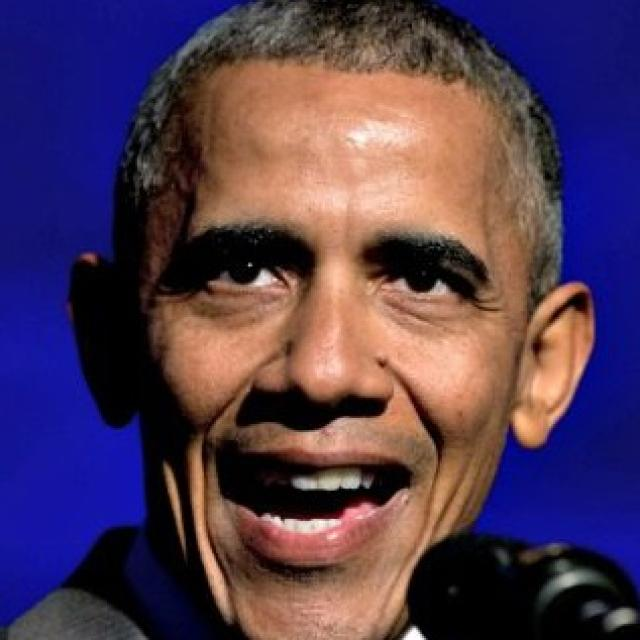Normal: (125, 64, 535, 638)
